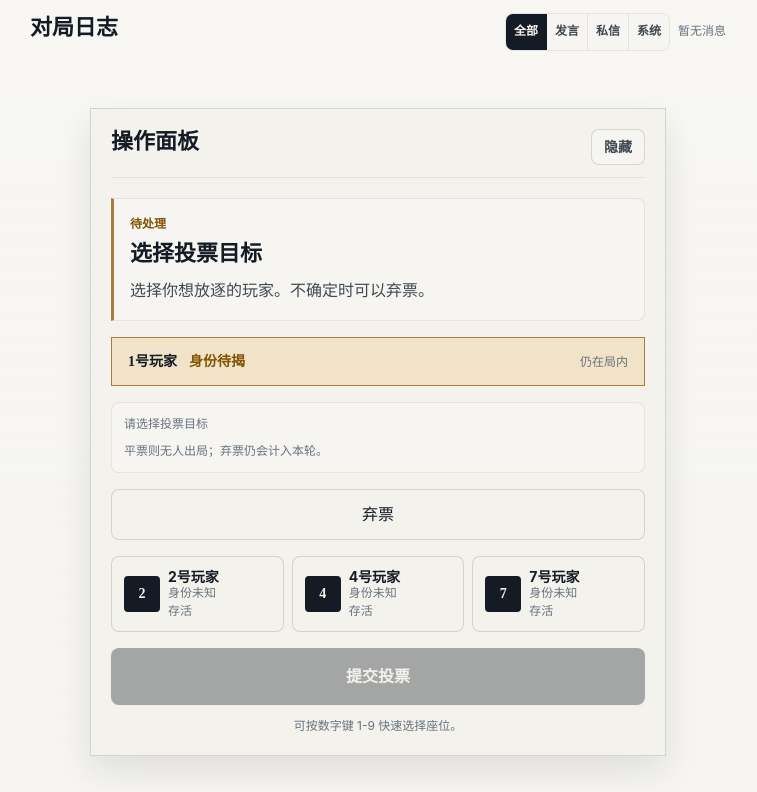
Test case: App › unlocks action panel on require input and relocks after submit ack
(page scrolled)
Expected: the text "请选择投票目标" is shown, [124,416,208,431]
Click the button "4 4号玩家 身份未知 存活".
click(378, 594)  # box [292,556,464,632]
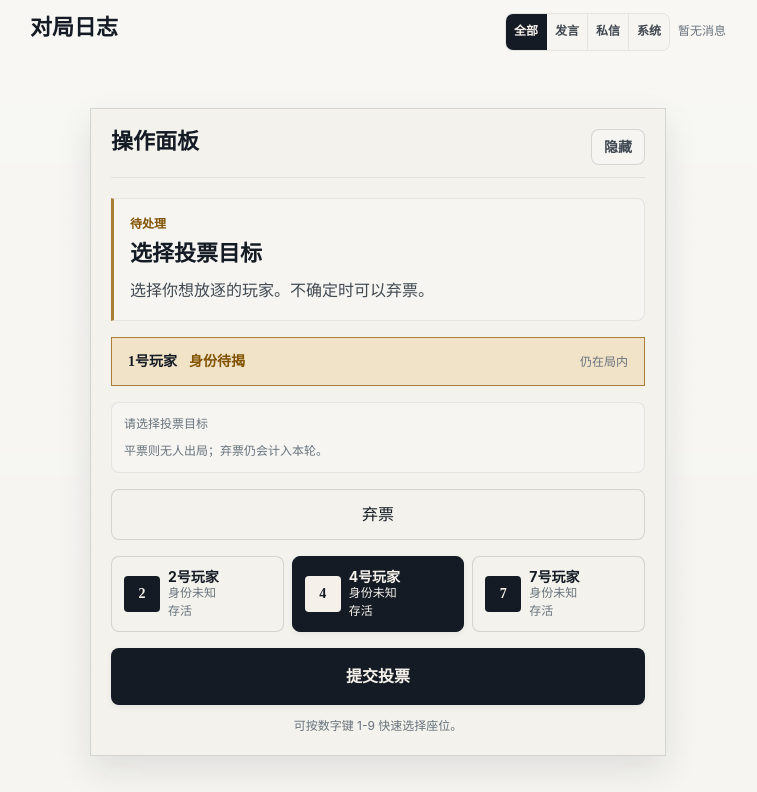
Click the button "提交投票".
click(378, 676)  # box [111,648,645,704]
(page scrolled)
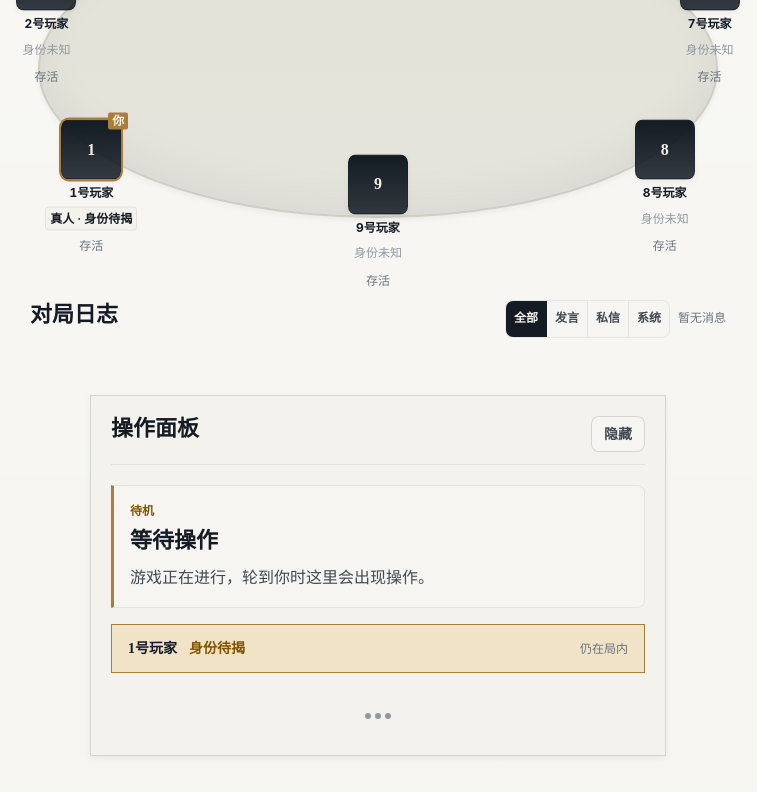
Now the text "等待操作" is shown, box [130,528,218,553]
